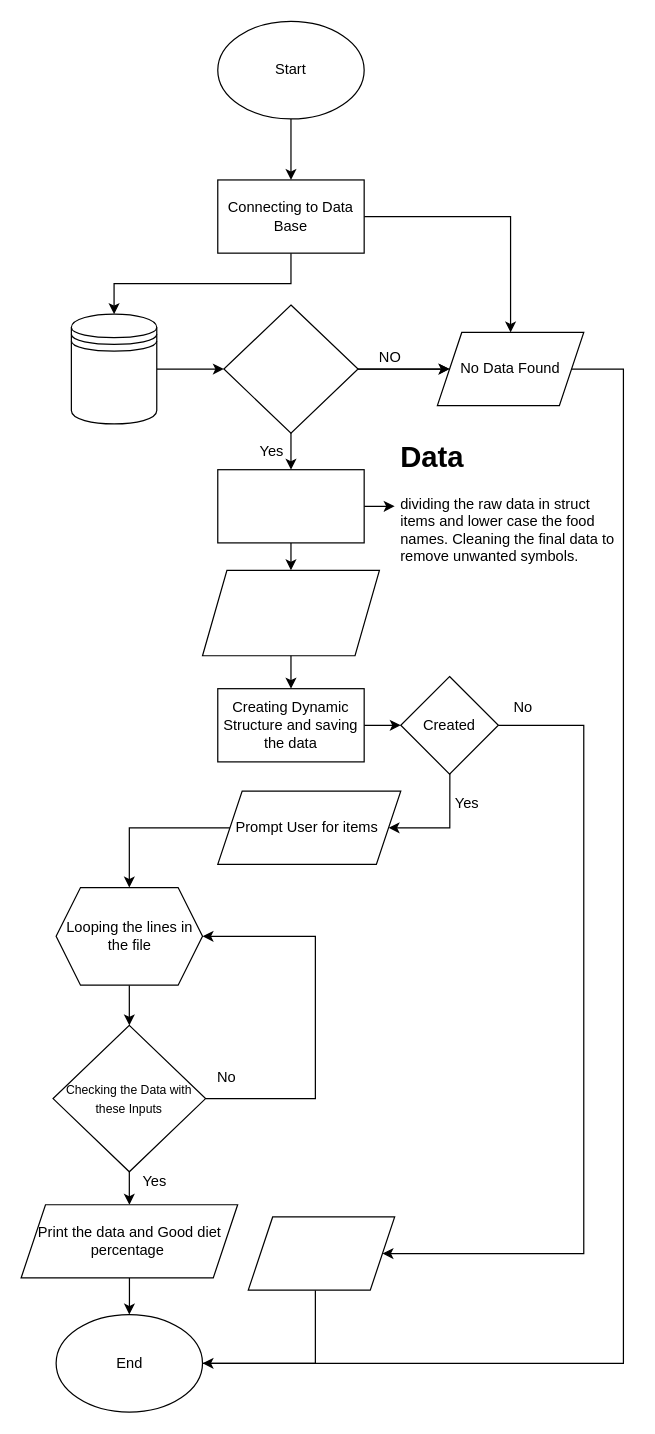
Some shapes in this 655 by 1434 pixel diagram are drawn without their labels. The box of each missing label's shape, as (x1, y1, x2, y2) in pixels:
Data Manipulation: (217, 468, 364, 543)
Data of nutrients: (70, 313, 157, 424)
Data present: (223, 304, 358, 433)
Displaying the data present in 4 rows: (201, 569, 379, 656)
Printing Failed: (247, 1216, 395, 1290)
